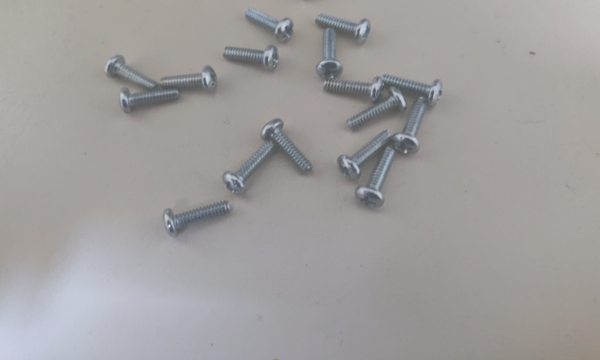shortscrew: (259, 118, 313, 176), (223, 141, 275, 195), (337, 130, 392, 181), (347, 87, 407, 132), (355, 147, 398, 208), (163, 200, 231, 238), (392, 96, 427, 155), (104, 54, 158, 91), (384, 74, 444, 107), (315, 13, 371, 45), (245, 8, 294, 43), (159, 65, 218, 93), (119, 87, 180, 114), (323, 77, 384, 103), (317, 28, 344, 80), (224, 45, 279, 70)
